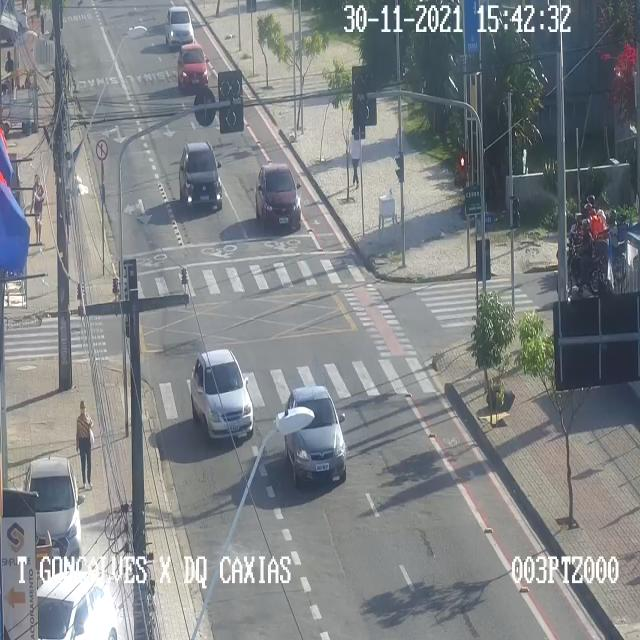Car: (285, 386, 349, 485), (25, 456, 85, 561), (191, 346, 255, 442), (36, 568, 120, 639), (178, 143, 223, 213), (256, 162, 300, 228), (178, 42, 209, 90), (164, 7, 196, 46)
Motorcycle: (566, 217, 612, 293)
